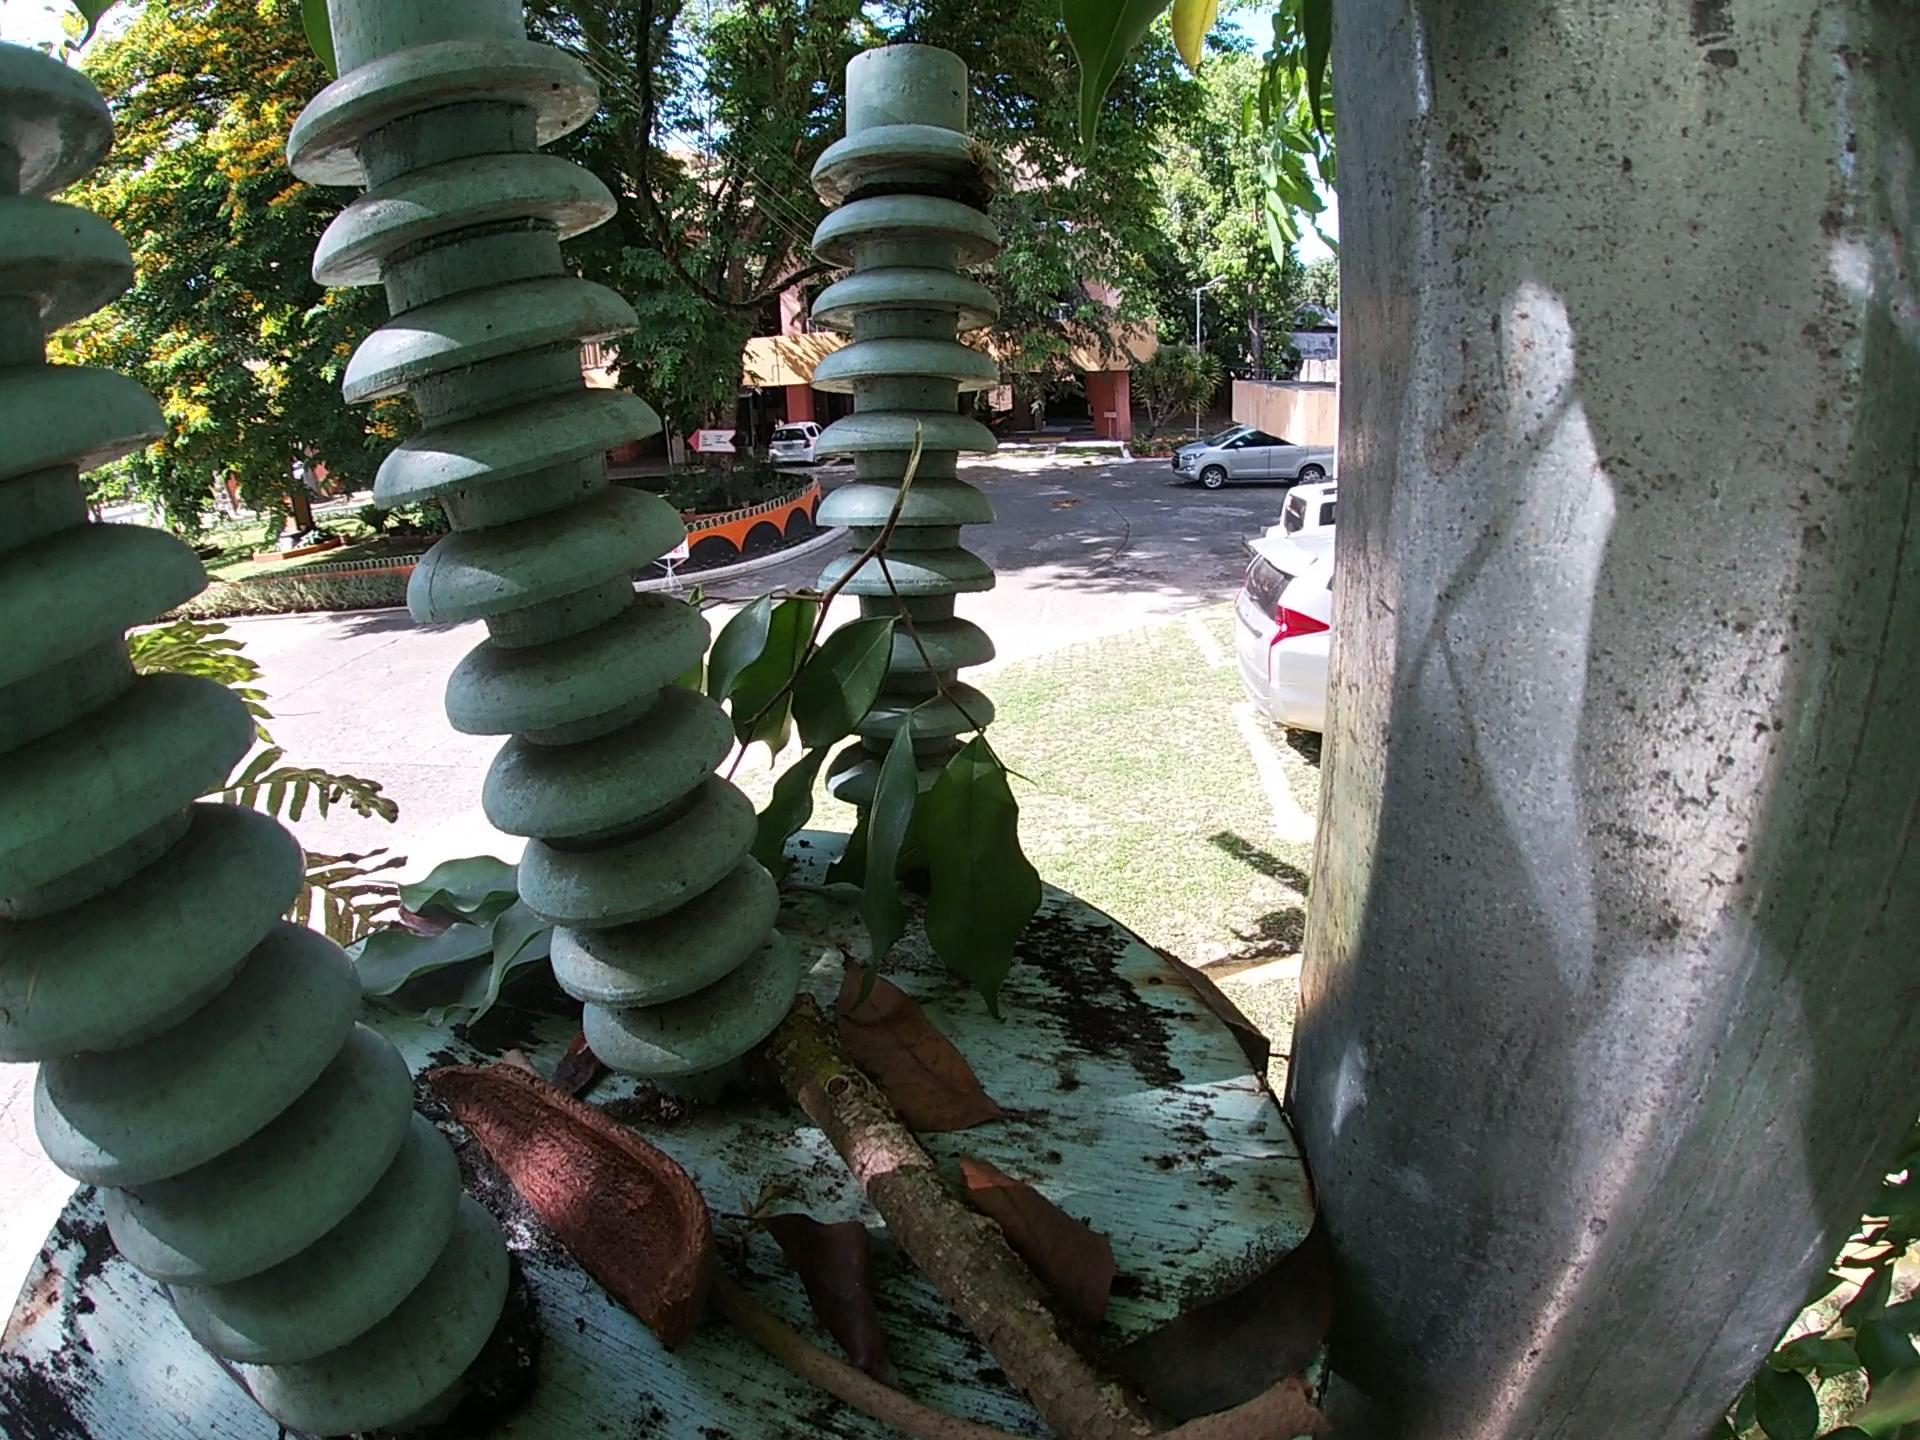branch with leaves: (706, 427, 1048, 1021)
leaf: (1140, 1184, 1342, 1389), (363, 843, 571, 1024), (825, 951, 1011, 1137), (948, 1142, 1126, 1308), (759, 1209, 890, 1349)
mahogany fruit: (413, 1060, 706, 1327)
tree branch: (759, 1007, 1166, 1435), (732, 1298, 1361, 1440), (156, 1280, 298, 1440), (500, 1048, 550, 1085)
